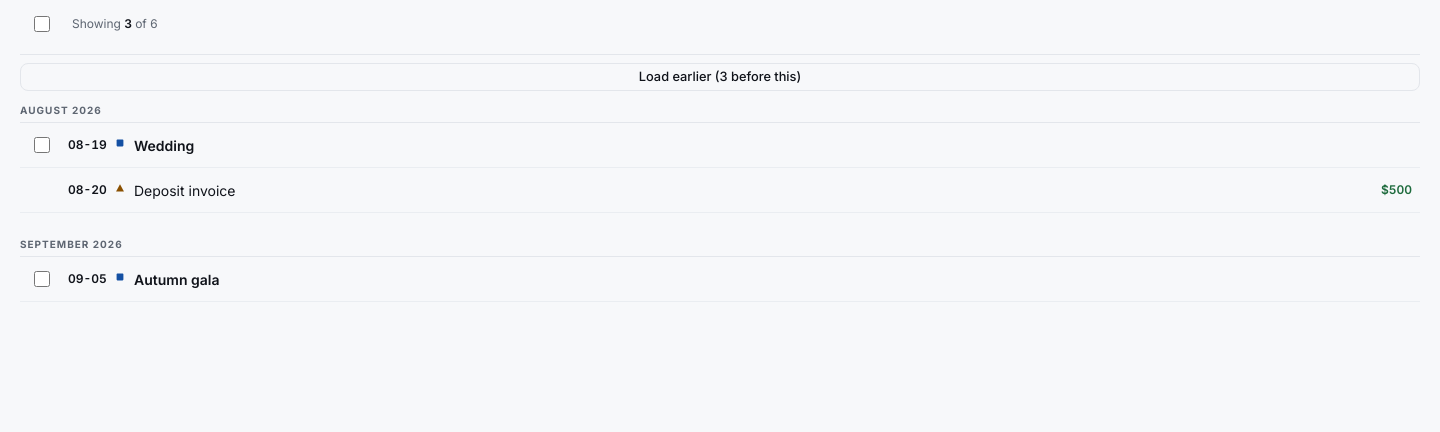
Test: AgendaView — bulk reschedule › restores the list AND the selection when the action throws
Click the checkbox named "select wedding" next to "08-19" at (42, 145), box [34,137,50,153]
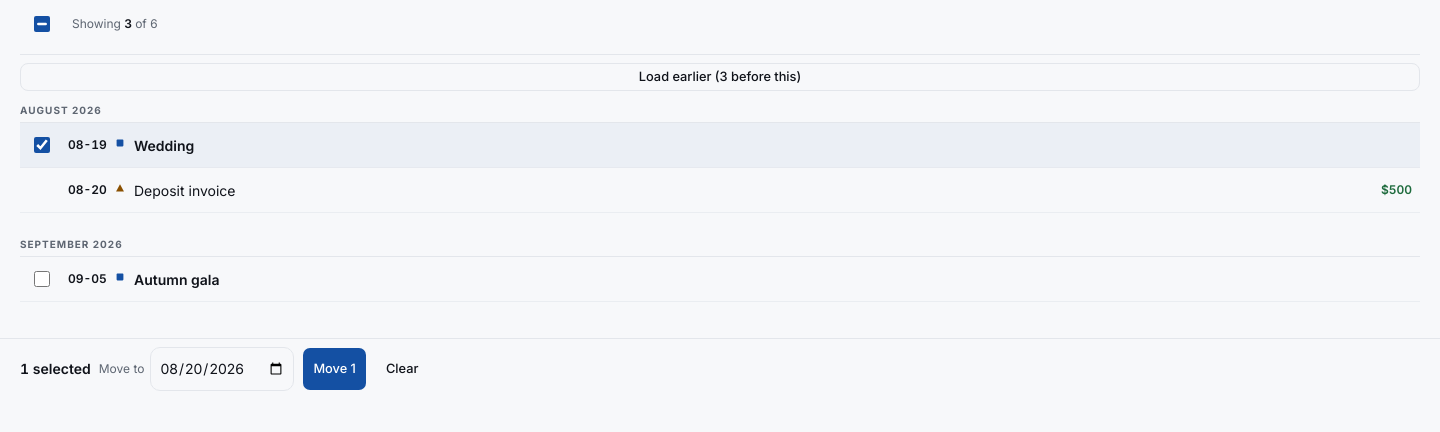
Type "2026-09-20" into the date field named "move the selected rows to this day" at (222, 369), box [150,347,294,391]
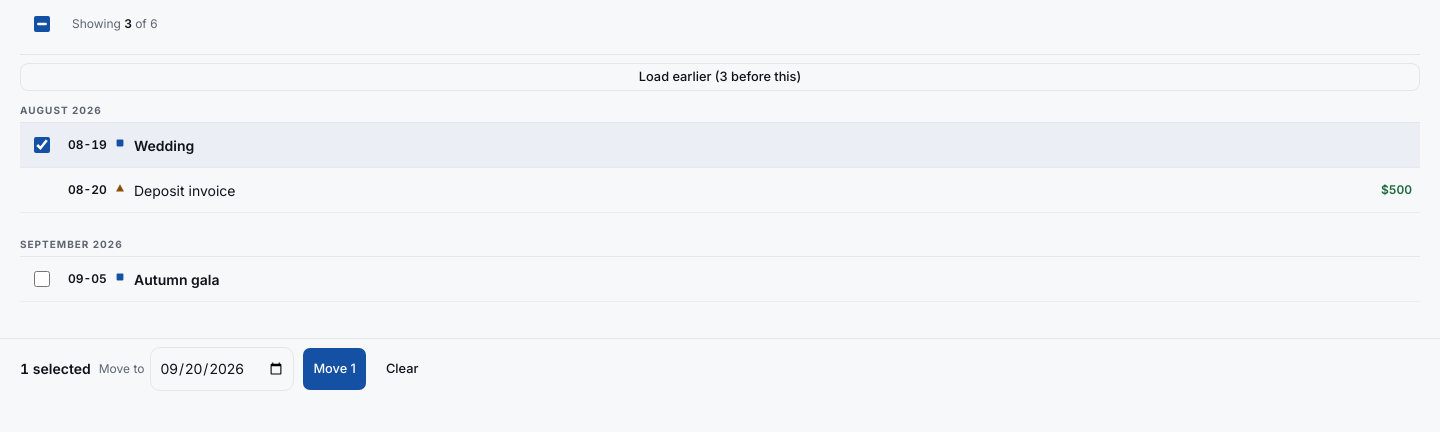
Click the button "Move 1" at (335, 369), box [302,347,367,391]
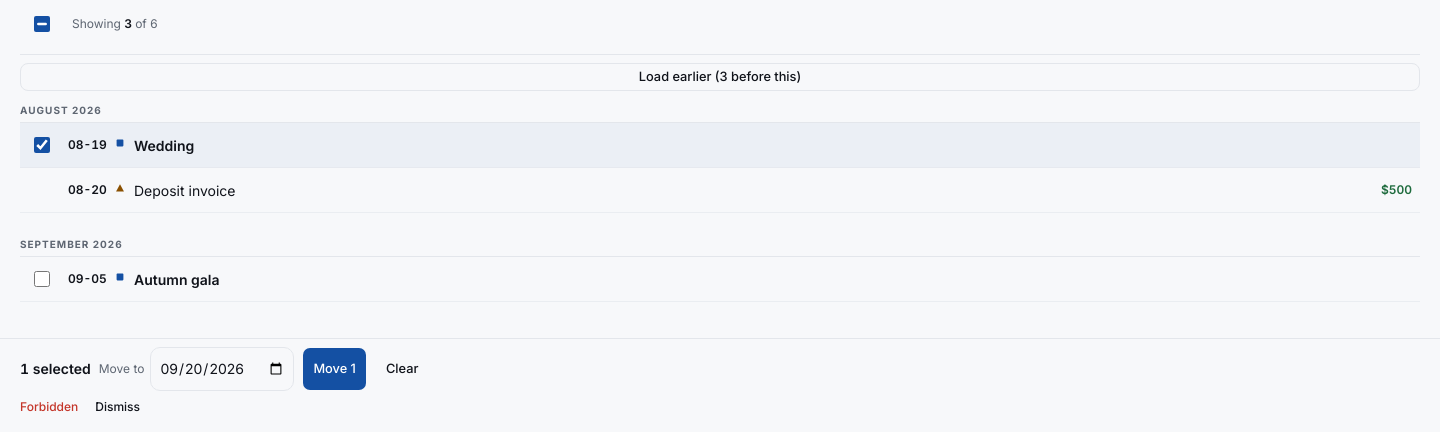
Check: the link "Wedding" is shown, box [134,137,194,154]
Check: the text "1 selected" is shown, box [20,359,91,379]
Check: the text "Forbidden" is shown, box [20,399,78,415]
